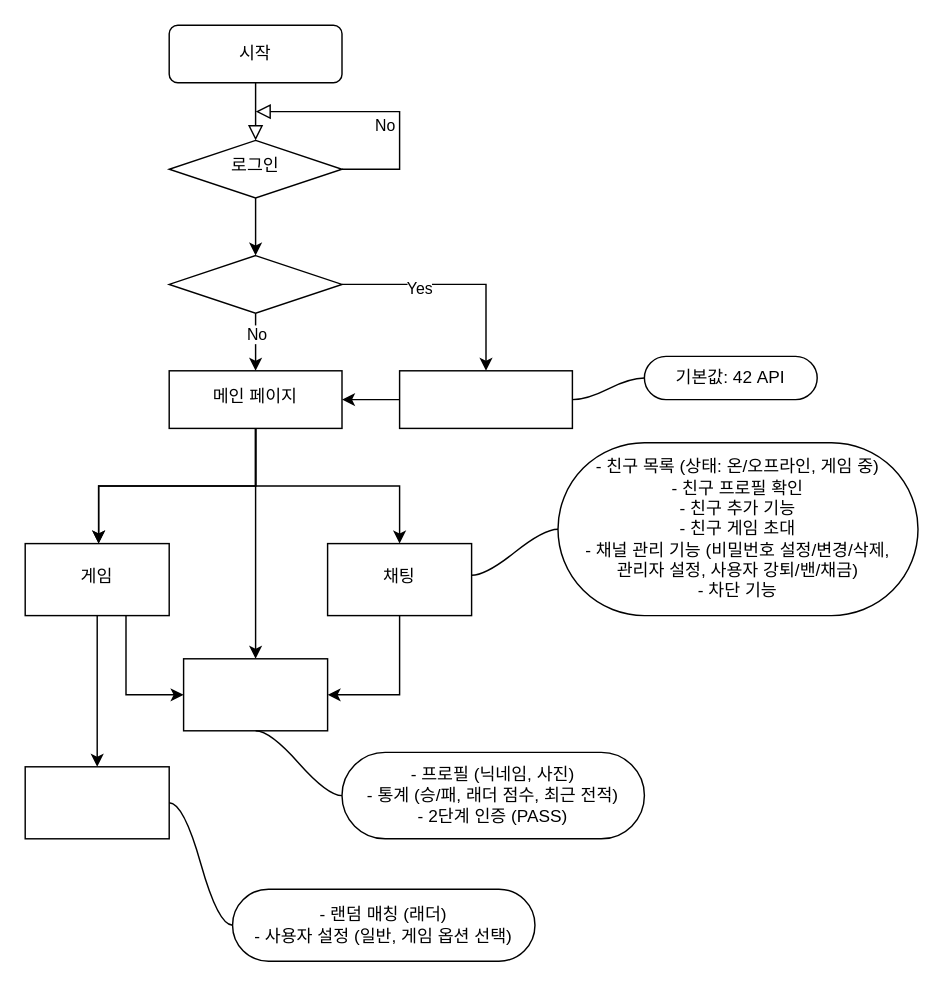
Image size: 943x986. Some labels were removed from this diagram. The shapes that lost their labels are listed below. From the top down, each one's centre as x and y in pixels, then its label:
At (x=255, y=283): "최초 로그인?".
At (x=485, y=398): "프로필 설정".
At (x=255, y=694): "마이 페이지".
At (x=96, y=802): "게임 큐".
